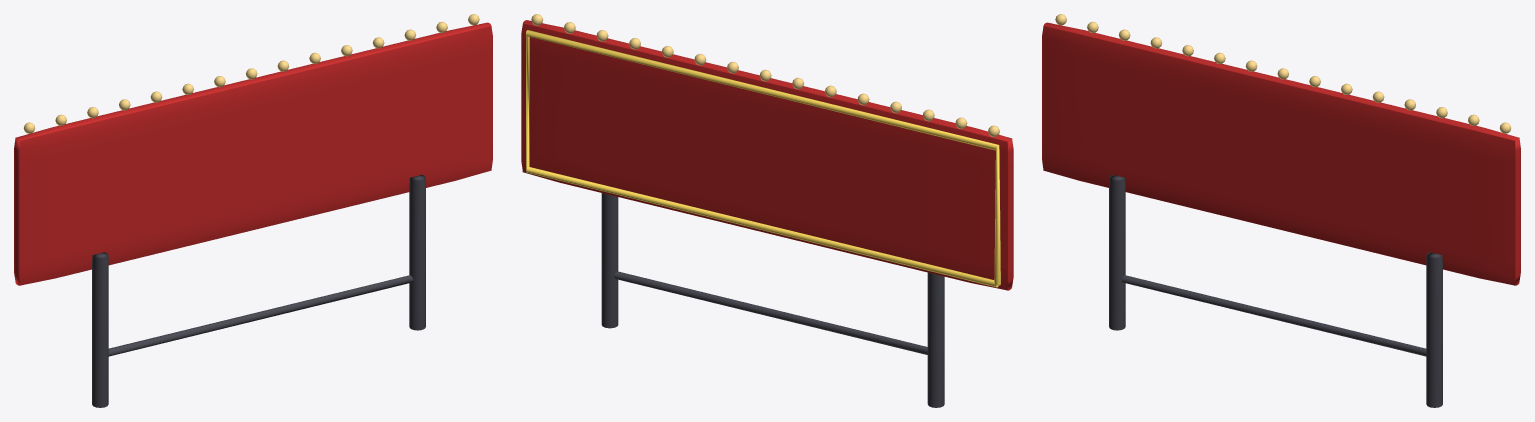
Rendered from EatsaPizzaSign.obj.
The picture shows the model from 3 angles, left to right: view 1: azimuth 30°, elevation 25°; view 2: azimuth 150°, elevation 25°; view 3: azimuth 330°, elevation 25°; orthographic projection. The views are drawn at different scales.
Parts seen in each view (by area): view 1: Board, Legs, Bulbs; view 2: Board, Neon, Legs, Bulbs; view 3: Board, Legs, Bulbs.
Boxes of the visible parts, x1,y1,x2,y2 form: Board: (14,22,492,285); Legs: (92,175,425,407); Bulbs: (23,14,479,133); Board: (521,20,1013,290); Neon: (526,30,1000,287); Legs: (601,193,944,407); Bulbs: (531,14,999,137); Board: (1042,22,1520,285); Legs: (1109,175,1442,407); Bulbs: (1055,14,1511,133).
Bounding box in the file's own units: 30 × 17.57 × 1.73.
